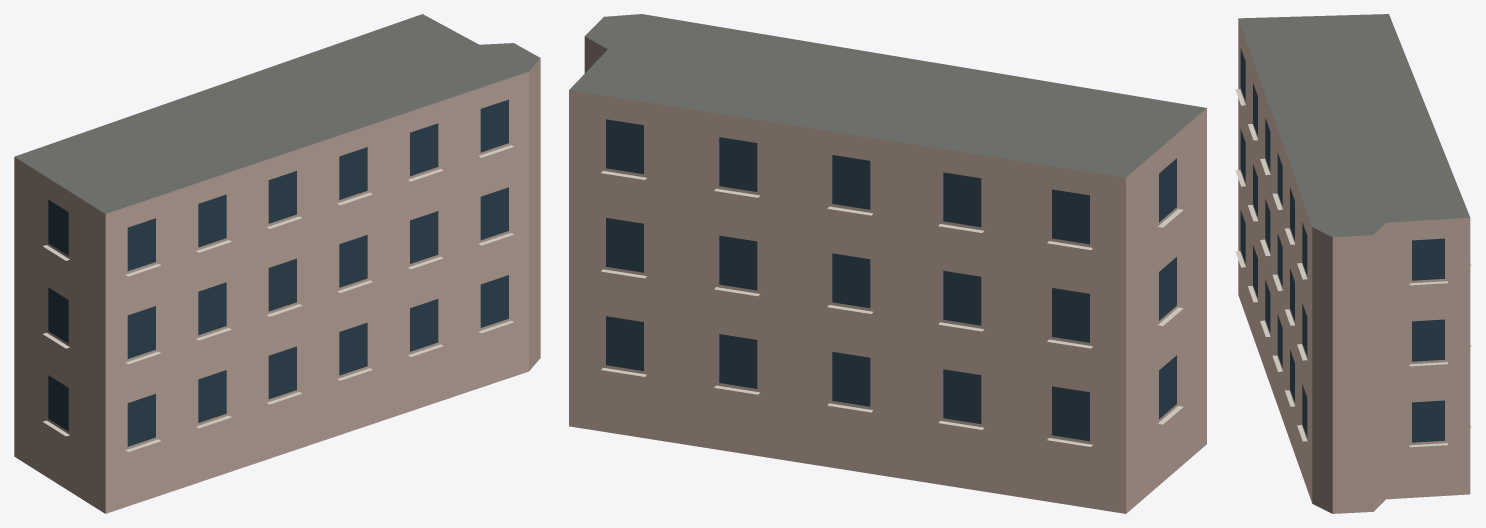
3 renders of one model, left to right at view 1: azimuth 30°, elevation 25°; view 2: azimuth 150°, elevation 25°; view 3: azimuth 270°, elevation 25°, orthographic. The views are drawn at different scales.
Parts seen in each view (by area): view 1: Footprint 0, Inferred window bays, Window sills; view 2: Footprint 0, Inferred window bays, Window sills; view 3: Footprint 0, Inferred window bays, Window sills.
Part boxes in pixels (<box>): Footprint 0: <box>14,14,540,513</box>; Inferred window bays: <box>48,99,508,446</box>; Window sills: <box>43,145,513,451</box>; Footprint 0: <box>569,14,1206,513</box>; Inferred window bays: <box>606,119,1176,441</box>; Window sills: <box>601,171,1183,446</box>; Footprint 0: <box>1238,14,1470,513</box>; Inferred window bays: <box>1240,48,1444,442</box>; Window sills: <box>1235,89,1471,447</box>.
Size of the model in its own units: 19.69 by 11.32 by 8.76.
